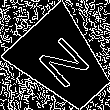N_SE: (31, 30, 95, 94)
